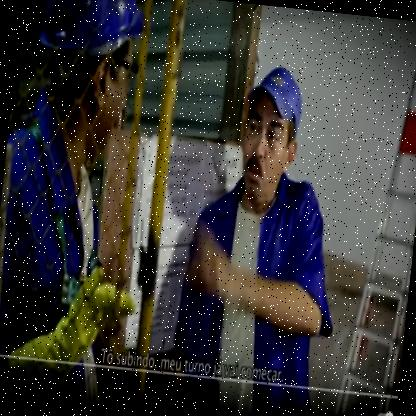capacete: (21, 0, 150, 183)
sem_capacete: (234, 60, 310, 212)
sem_colete_refletivo: (165, 159, 353, 415), (0, 77, 133, 406)
